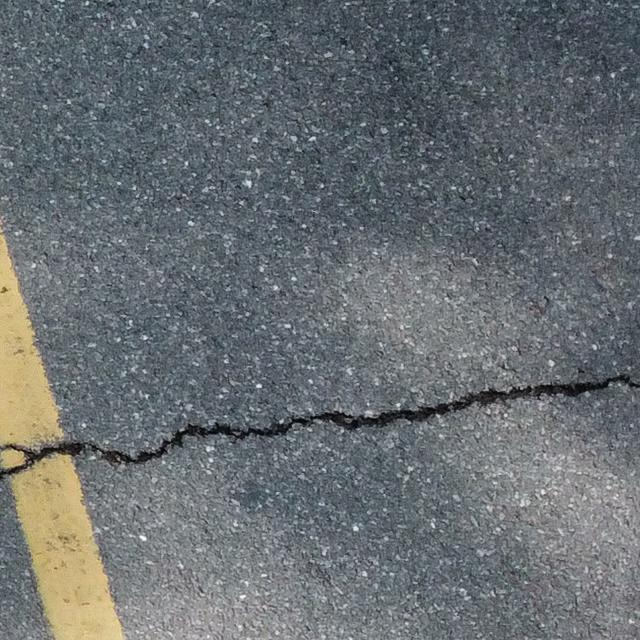TransverseCrack: (1, 371, 640, 478)
